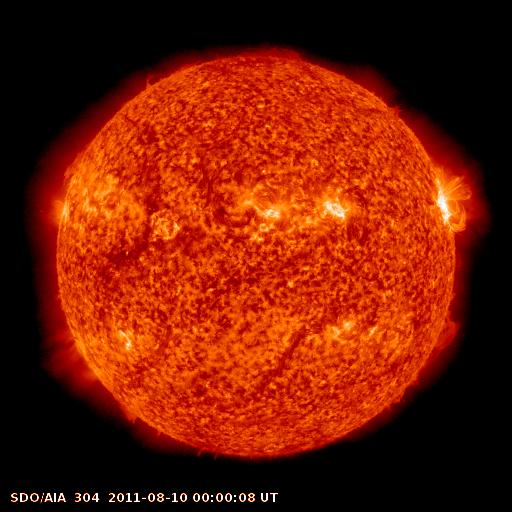prominence: (425, 307, 474, 356), (242, 35, 306, 68), (58, 139, 92, 189), (106, 386, 142, 432), (380, 88, 411, 127), (139, 61, 169, 90)
